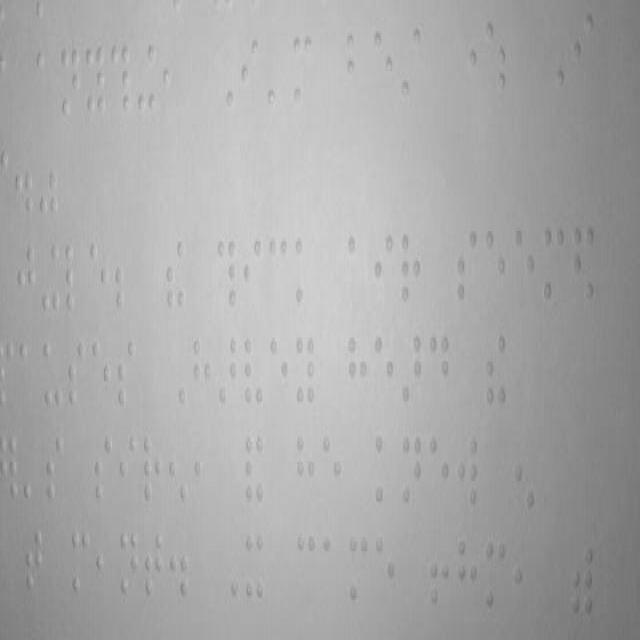braiile: (264, 224, 294, 318), (513, 215, 541, 314), (482, 220, 512, 309), (343, 224, 372, 314), (482, 529, 511, 618), (345, 528, 373, 619), (541, 224, 569, 314), (344, 27, 371, 120), (398, 222, 426, 311), (452, 529, 480, 618), (294, 524, 320, 618), (39, 330, 67, 417), (112, 330, 140, 417), (398, 430, 426, 517), (372, 530, 400, 617), (370, 328, 398, 414), (570, 10, 596, 101), (455, 220, 481, 309), (294, 227, 320, 316), (371, 26, 395, 121), (344, 330, 370, 417), (12, 242, 40, 322), (454, 436, 482, 516), (318, 431, 346, 511), (291, 333, 317, 418), (82, 40, 106, 129), (241, 231, 265, 320), (374, 431, 398, 520), (243, 522, 267, 611), (320, 529, 344, 618), (58, 41, 84, 123), (62, 236, 86, 324), (190, 330, 214, 417), (430, 430, 454, 517), (93, 426, 117, 512), (238, 37, 262, 119), (290, 30, 314, 112), (242, 328, 266, 410), (295, 430, 319, 512), (69, 524, 93, 606), (118, 524, 142, 606), (34, 49, 58, 129), (371, 226, 395, 306), (87, 240, 111, 320), (65, 338, 89, 418), (88, 336, 112, 416), (428, 334, 452, 414), (117, 426, 141, 506), (267, 332, 291, 410), (44, 433, 68, 509), (23, 524, 45, 604), (142, 523, 164, 601), (142, 428, 164, 504), (20, 331, 40, 411)
